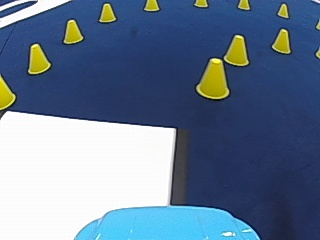cone: (196, 57, 229, 99), (224, 34, 250, 65), (27, 42, 50, 73), (62, 18, 83, 43), (271, 27, 291, 53), (0, 74, 15, 108), (98, 2, 116, 23), (276, 2, 289, 18), (144, 0, 159, 11), (237, 0, 250, 10), (194, 0, 207, 7)
